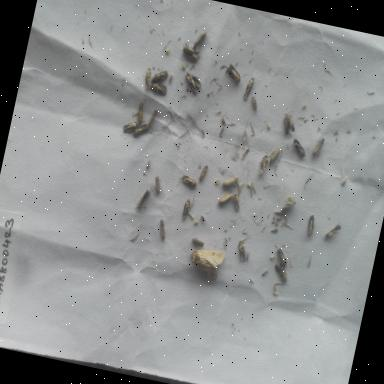pbw: (232, 231, 256, 266), (151, 212, 173, 246), (276, 110, 300, 138), (180, 70, 204, 96), (222, 61, 245, 85), (288, 134, 310, 159), (322, 218, 344, 243), (178, 42, 204, 63), (189, 27, 208, 53), (240, 77, 258, 104), (308, 132, 326, 158), (270, 263, 292, 284), (254, 150, 270, 178), (272, 246, 292, 268), (278, 193, 298, 214), (134, 100, 150, 126), (119, 120, 142, 138), (148, 80, 168, 100), (189, 231, 210, 250), (178, 171, 200, 189), (304, 211, 318, 239), (140, 65, 154, 92), (264, 146, 282, 167), (134, 188, 150, 211), (149, 173, 165, 195), (179, 198, 194, 220), (150, 66, 168, 84), (145, 107, 159, 130), (196, 162, 210, 184), (216, 190, 234, 207), (221, 174, 240, 190), (132, 122, 148, 140), (230, 192, 243, 214), (248, 95, 262, 114)
